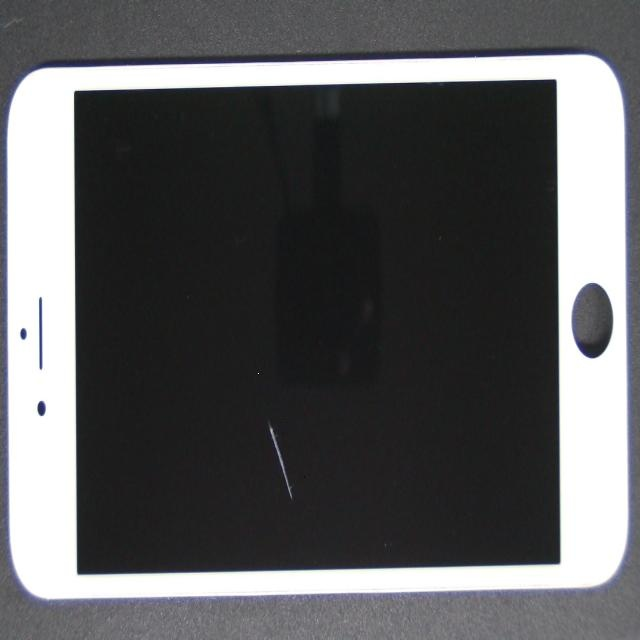scratch: (101, 137, 394, 640)
